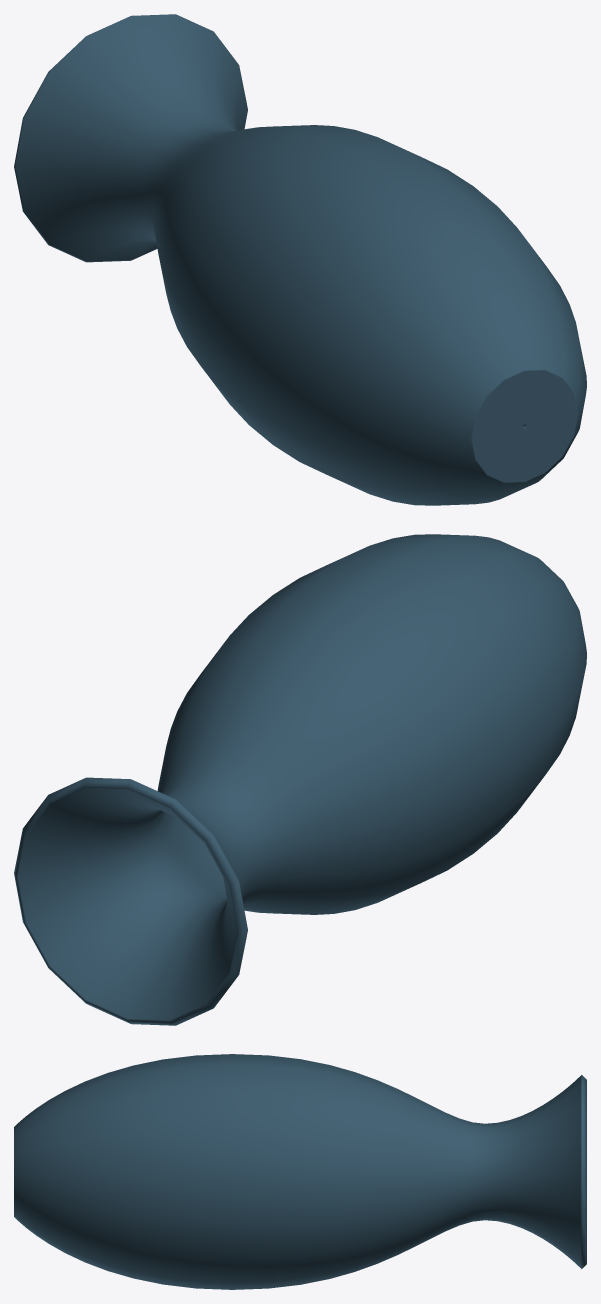
Rendered from vase.fbx.
3 views of the same model, one above another, from view 1: azimuth 30°, elevation 25°; view 2: azimuth 150°, elevation 25°; view 3: azimuth 270°, elevation 25° (orthographic). The views are drawn at different scales.
Parts seen in each view (by area): view 1: Curve; view 2: Curve; view 3: Curve.
Part boxes in pixels (x1,y1,x2,y2): Curve: (14, 14, 586, 505); Curve: (14, 534, 586, 1025); Curve: (14, 1054, 586, 1289).
Bounding box in the file's own units: 48.01 × 48.01 × 116.
